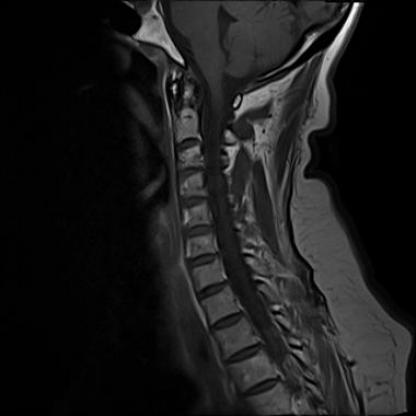Disc Bulgerotation: (186, 253, 223, 268), (182, 223, 215, 239)
